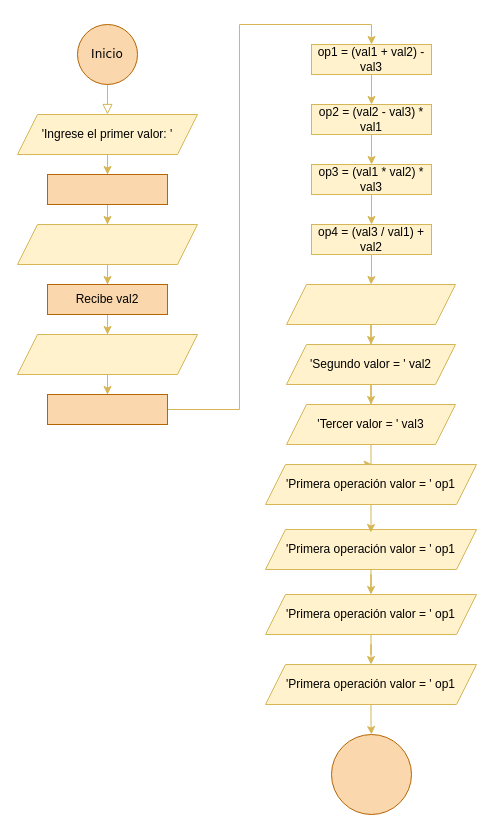
This 494x832 diagram has some shape labels left out. Each missing label, with the centre of its shape:
"'Ingrese el segundo valor: '" goes at [107,244].
"'Ingrese el tercer valor: '" goes at [107,354].
"'Primer valor = ' val1" goes at [371,304].
"Fin" goes at [371,774].
"Recibe val1" goes at [107,189].
"Recibe val3" goes at [107,409].
